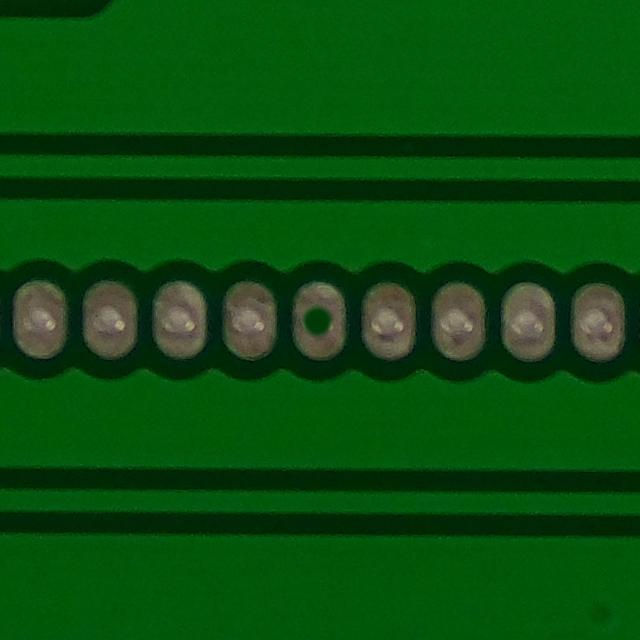missing_hole: (280, 266, 358, 380)
